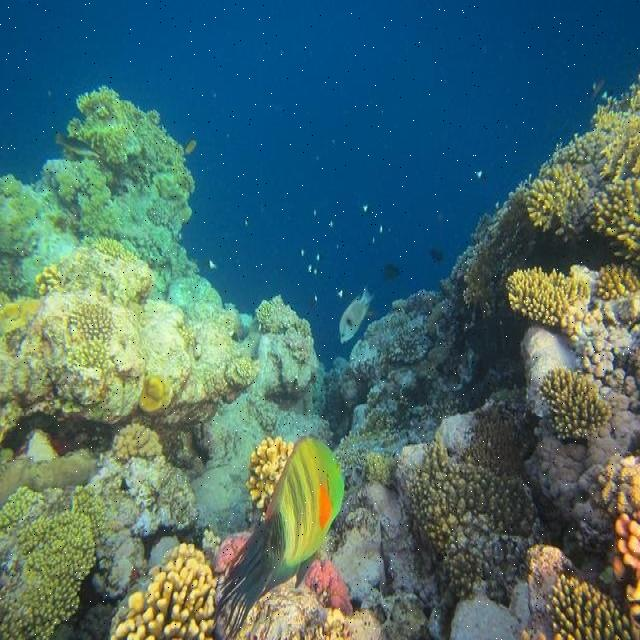fish: (213, 435, 345, 638), (339, 281, 375, 342), (590, 80, 608, 111), (383, 263, 401, 282), (429, 245, 442, 267), (183, 138, 196, 156), (471, 170, 485, 182), (308, 265, 319, 275), (209, 259, 217, 271), (336, 289, 344, 299), (243, 218, 250, 228), (379, 224, 384, 236), (316, 253, 320, 262), (314, 294, 319, 301), (373, 237, 376, 245)
reefs: (0, 71, 639, 639)
